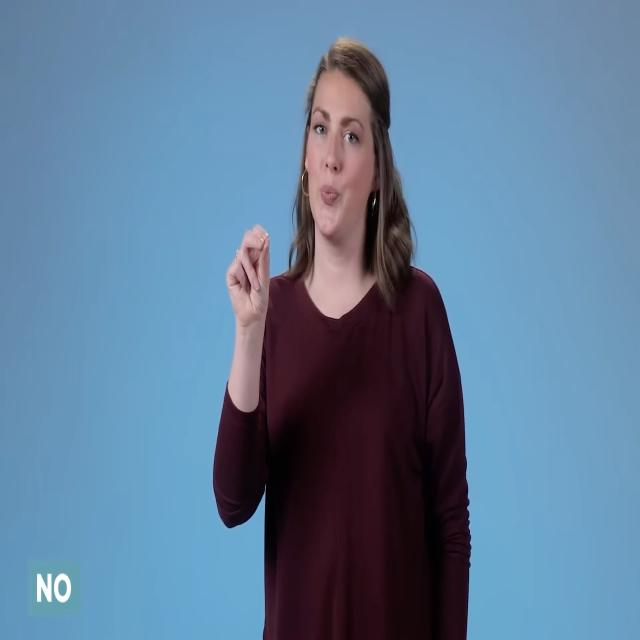no: (212, 207, 288, 363)
